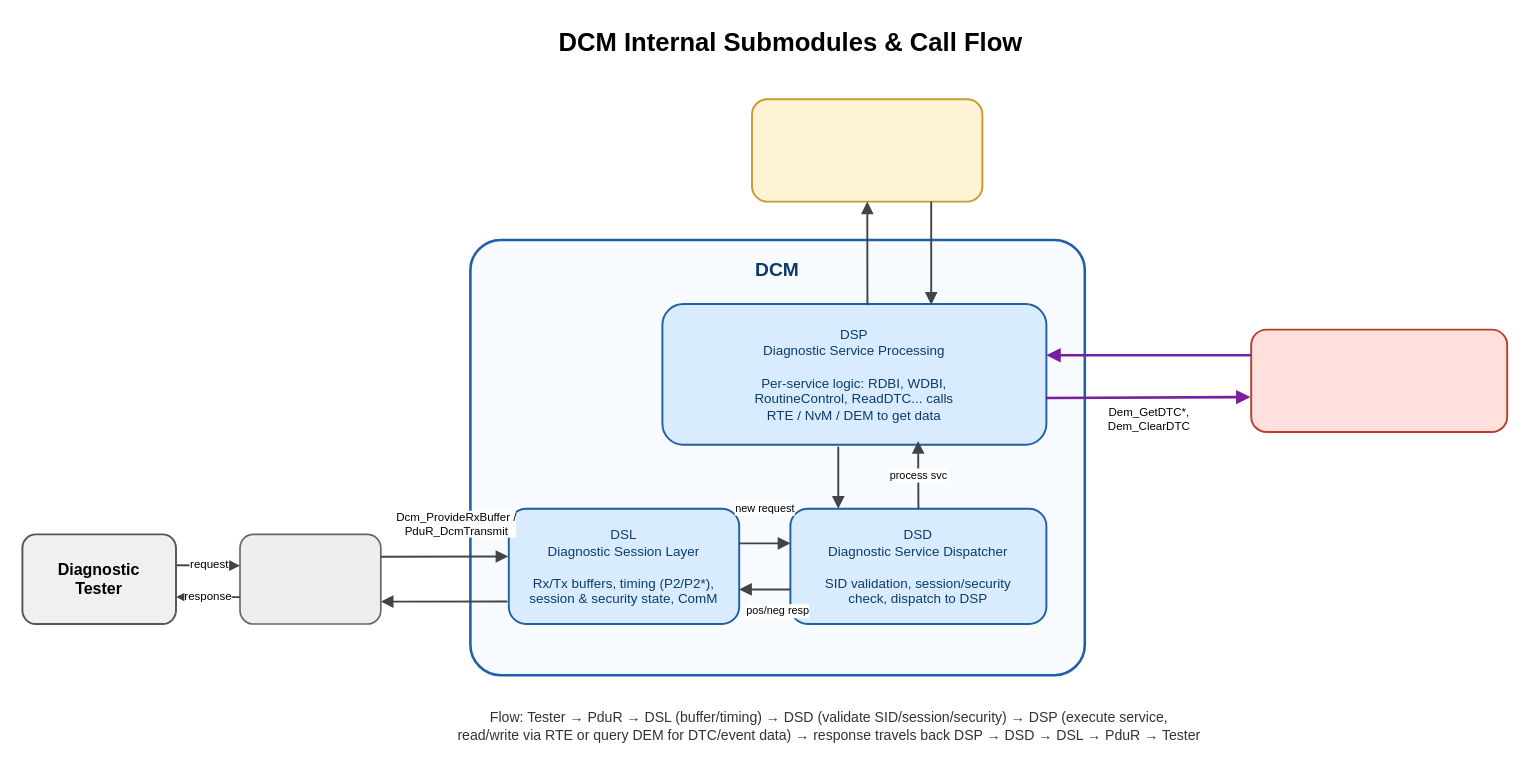
The diagram is 1531 pixels wide and 773 high, and some of its shapes have lost their labels. Each missing label, with the centre of its shape:
"DEM DTC status, freeze frame, extended data" belongs at (1379,380).
"PduR (Comm Stack)" belongs at (310,578).
"RTE / SWCs application data, I/O control" belongs at (866,150).
